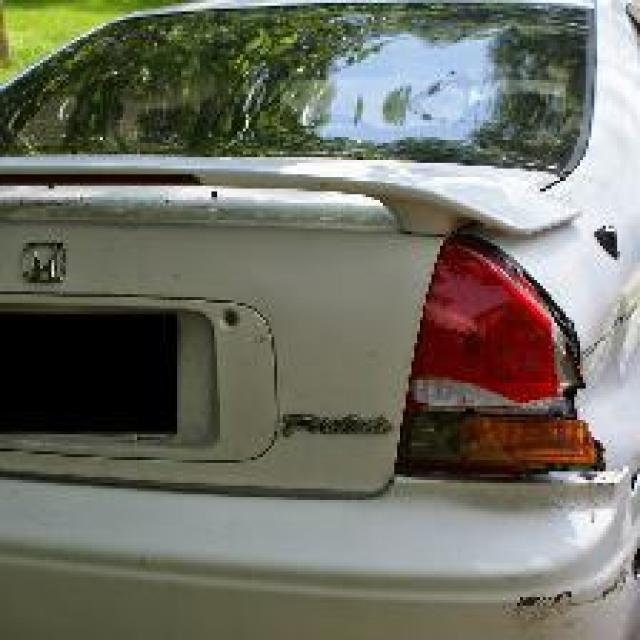damaged: (500, 303, 637, 620)
